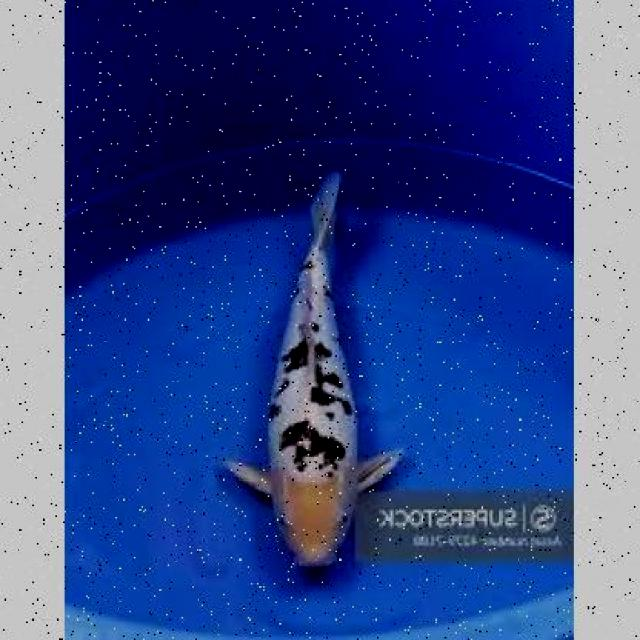ikan-mas: (248, 171, 376, 571)
